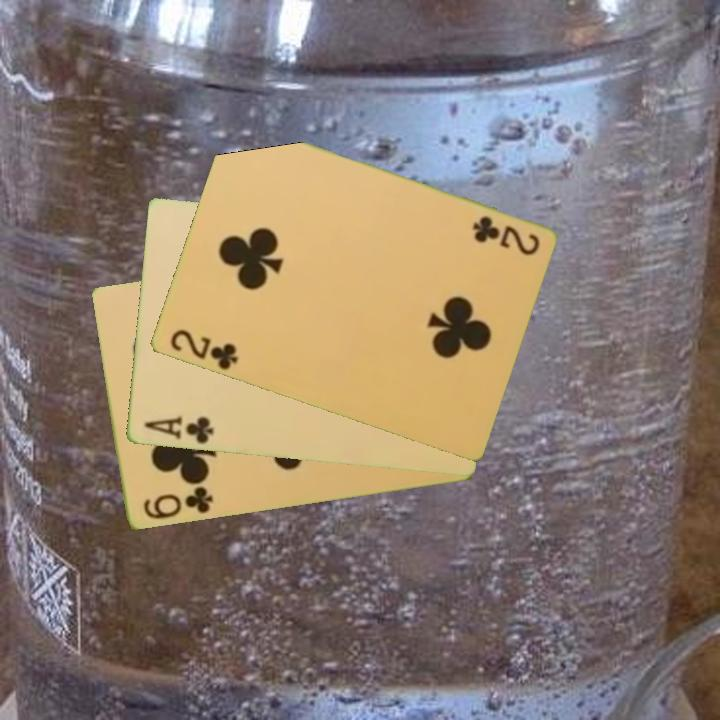2c: (166, 326, 241, 373), (468, 212, 542, 259)
6c: (139, 483, 216, 523)
Ac: (140, 413, 216, 448)
